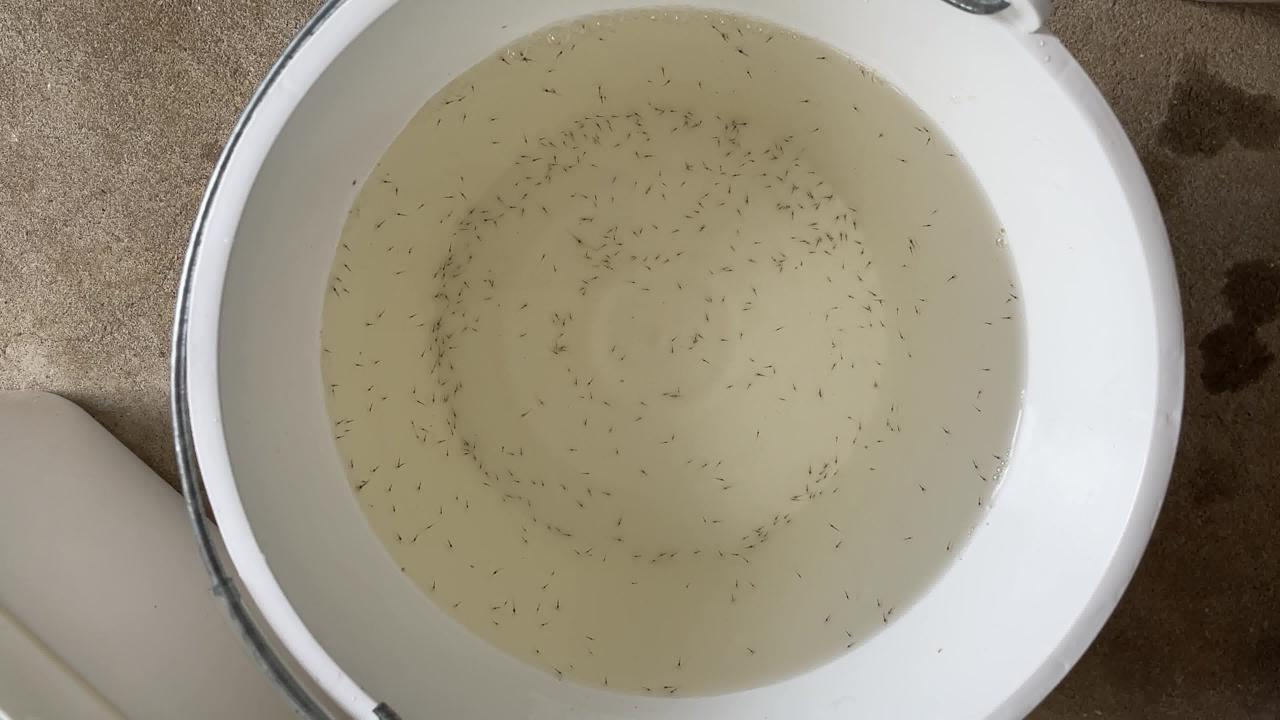shrimp: (592, 84, 604, 92), (540, 87, 552, 95), (551, 85, 563, 93), (535, 131, 547, 139), (533, 141, 545, 149), (516, 132, 528, 140), (544, 139, 556, 147), (558, 141, 570, 149), (556, 129, 568, 137), (563, 129, 575, 137), (578, 134, 590, 142), (584, 134, 596, 142), (588, 136, 600, 144), (590, 121, 602, 129), (574, 126, 586, 134), (568, 118, 580, 126), (579, 114, 591, 122), (590, 111, 602, 119), (599, 119, 611, 127), (602, 122, 614, 130), (604, 112, 616, 120), (619, 112, 631, 120), (631, 109, 643, 117), (630, 116, 642, 124), (624, 127, 636, 135), (611, 139, 623, 147), (629, 146, 641, 154), (641, 151, 653, 159), (641, 136, 653, 144), (635, 129, 647, 137), (642, 98, 654, 106), (651, 103, 663, 111), (653, 110, 665, 118), (662, 105, 674, 113), (666, 122, 678, 130), (680, 119, 692, 127), (679, 114, 691, 122), (680, 108, 692, 116), (689, 120, 701, 128), (710, 112, 722, 120), (707, 132, 719, 140), (712, 137, 724, 145), (723, 132, 735, 140), (725, 137, 737, 145), (719, 121, 731, 129), (735, 118, 747, 126), (725, 117, 737, 125), (725, 120, 737, 128), (731, 126, 743, 134), (680, 156, 692, 164), (681, 165, 693, 173), (685, 158, 697, 166), (675, 178, 687, 186), (659, 180, 671, 188), (650, 167, 662, 175), (643, 185, 655, 193), (655, 191, 667, 199), (627, 180, 639, 188), (693, 155, 705, 163), (700, 165, 712, 173), (715, 159, 727, 167), (718, 149, 730, 157), (715, 165, 727, 173), (708, 178, 720, 186), (701, 189, 713, 197), (696, 199, 708, 207), (690, 206, 702, 214), (677, 211, 689, 219), (691, 223, 703, 231), (709, 201, 721, 209), (717, 188, 729, 196), (728, 171, 740, 179), (736, 161, 748, 169), (742, 159, 754, 167), (740, 149, 752, 157), (758, 147, 770, 155), (768, 154, 780, 162), (774, 146, 786, 154), (767, 140, 779, 148), (777, 135, 789, 143), (782, 132, 794, 140), (807, 125, 819, 133), (797, 95, 809, 103), (785, 152, 797, 160), (790, 159, 802, 167), (781, 166, 793, 174), (776, 174, 788, 182), (758, 170, 770, 178), (759, 180, 771, 188), (739, 194, 751, 202), (735, 206, 747, 214), (640, 79, 652, 87), (657, 81, 669, 89), (661, 67, 673, 75), (692, 81, 704, 89), (807, 165, 819, 173), (788, 181, 800, 189), (793, 184, 805, 192), (814, 177, 826, 185), (800, 187, 812, 195), (806, 189, 818, 197), (817, 190, 829, 198), (825, 190, 837, 198), (808, 197, 820, 205), (810, 202, 822, 210), (794, 200, 806, 208), (786, 210, 798, 218), (770, 195, 782, 203), (770, 201, 782, 209), (779, 202, 791, 210), (830, 212, 842, 220), (842, 212, 854, 220), (847, 206, 859, 214), (849, 218, 861, 226), (806, 218, 818, 226), (807, 225, 819, 233), (783, 235, 795, 243), (794, 235, 806, 243), (798, 238, 810, 246), (804, 247, 816, 255), (810, 238, 822, 246), (819, 249, 831, 257), (826, 241, 838, 249), (823, 233, 835, 241), (831, 231, 843, 239), (836, 232, 848, 240), (848, 236, 860, 244), (853, 245, 865, 253), (860, 258, 872, 266), (841, 261, 853, 269), (824, 273, 836, 281), (852, 270, 864, 278), (748, 238, 760, 246), (725, 244, 737, 252), (742, 258, 754, 266), (764, 255, 776, 263), (772, 266, 784, 274), (772, 260, 784, 268), (775, 246, 787, 254), (790, 263, 802, 271), (796, 259, 808, 267), (674, 246, 686, 254), (665, 227, 677, 235), (650, 222, 662, 230), (606, 177, 618, 185), (606, 193, 618, 201), (591, 190, 603, 198), (586, 201, 598, 209), (577, 191, 589, 199), (566, 191, 578, 199), (584, 161, 596, 169), (578, 147, 590, 155), (566, 144, 578, 152), (571, 152, 583, 160), (564, 164, 576, 172), (559, 167, 571, 175), (548, 150, 560, 158), (547, 158, 559, 166), (543, 163, 555, 171), (535, 172, 547, 180), (541, 176, 553, 184), (529, 153, 541, 161), (520, 151, 532, 159), (513, 157, 525, 165), (525, 174, 537, 182), (510, 180, 522, 188), (519, 191, 531, 199), (515, 208, 527, 216), (535, 205, 547, 213), (493, 196, 505, 204), (504, 200, 516, 208), (495, 209, 507, 217), (491, 219, 503, 227), (483, 214, 495, 222), (478, 206, 490, 214), (456, 176, 468, 184), (456, 192, 468, 200), (447, 193, 459, 201), (482, 142, 494, 150), (482, 114, 494, 122), (466, 208, 478, 216), (455, 214, 467, 222), (459, 219, 471, 227), (457, 225, 469, 233), (446, 230, 458, 238), (432, 217, 444, 225), (440, 210, 452, 218), (469, 221, 481, 229), (472, 234, 484, 242), (441, 244, 453, 252), (580, 214, 592, 222), (572, 232, 584, 240), (539, 253, 551, 261), (546, 264, 558, 272), (577, 252, 589, 260), (594, 241, 606, 249), (594, 233, 606, 241), (601, 227, 613, 235), (611, 221, 623, 229), (607, 229, 619, 237), (612, 238, 624, 246), (625, 228, 637, 236), (635, 226, 647, 234), (650, 247, 662, 255), (663, 256, 675, 264), (640, 254, 652, 262), (641, 261, 653, 269), (626, 253, 638, 261), (612, 247, 624, 255), (602, 248, 614, 256), (599, 254, 611, 262), (599, 261, 611, 269), (590, 272, 602, 280), (575, 276, 587, 284), (572, 280, 584, 288), (578, 289, 590, 297), (515, 304, 527, 312), (517, 330, 529, 338), (548, 311, 560, 319), (548, 315, 560, 323), (558, 319, 570, 327), (561, 312, 573, 320), (553, 329, 565, 337), (550, 337, 562, 345), (549, 345, 561, 353), (554, 339, 566, 347), (558, 346, 570, 354), (624, 277, 636, 285), (639, 286, 651, 294), (669, 282, 681, 290), (701, 268, 713, 276), (715, 261, 727, 269), (718, 268, 730, 276), (703, 289, 715, 297), (698, 295, 710, 303), (700, 315, 712, 323), (714, 294, 726, 302), (739, 295, 751, 303), (739, 302, 751, 310), (749, 284, 761, 292), (489, 278, 501, 286), (482, 273, 494, 281), (473, 275, 485, 283), (479, 293, 491, 301), (459, 277, 471, 285), (453, 285, 465, 293), (449, 272, 461, 280), (464, 253, 476, 261), (444, 249, 456, 257), (447, 260, 459, 268), (436, 257, 448, 265), (429, 267, 441, 275), (436, 269, 448, 277), (439, 285, 451, 293), (428, 292, 440, 300), (440, 292, 452, 300), (441, 300, 453, 308), (453, 297, 465, 305), (445, 308, 457, 316), (452, 311, 464, 319), (468, 314, 480, 322), (459, 322, 471, 330), (466, 324, 478, 332), (434, 312, 446, 320), (431, 320, 443, 328), (427, 321, 439, 329), (442, 328, 454, 336), (438, 335, 450, 343), (430, 333, 442, 341), (425, 341, 437, 349), (413, 348, 425, 356), (448, 342, 460, 350), (437, 347, 449, 355), (434, 360, 446, 368), (427, 367, 439, 375), (442, 359, 454, 367), (431, 375, 443, 383), (437, 377, 449, 385), (447, 388, 459, 396), (454, 376, 466, 384), (439, 394, 451, 402), (426, 393, 438, 401), (412, 400, 424, 408), (404, 385, 416, 393), (404, 416, 416, 424), (408, 431, 420, 439), (416, 432, 428, 440), (415, 425, 427, 433), (440, 416, 452, 424), (445, 411, 457, 419), (445, 419, 457, 427), (447, 426, 459, 434), (435, 435, 447, 443), (439, 445, 451, 453), (456, 430, 468, 438), (456, 445, 468, 453), (459, 454, 471, 462), (467, 443, 479, 451), (466, 452, 478, 460), (476, 461, 488, 469), (478, 466, 490, 474), (479, 477, 491, 485), (490, 468, 502, 476), (502, 467, 514, 475), (494, 444, 506, 452), (501, 448, 513, 456), (513, 444, 525, 452), (509, 471, 521, 479), (512, 496, 524, 504), (504, 490, 516, 498), (497, 494, 509, 502), (525, 498, 537, 506), (520, 523, 532, 531), (520, 536, 532, 544), (529, 515, 541, 523), (538, 522, 550, 530), (550, 523, 562, 531), (558, 527, 570, 535), (411, 312, 423, 320), (414, 322, 426, 330), (388, 269, 400, 277), (401, 245, 413, 253), (382, 244, 394, 252), (371, 222, 383, 230), (392, 208, 404, 216), (412, 202, 424, 210), (390, 188, 402, 196), (379, 177, 391, 185), (430, 115, 442, 123), (455, 113, 467, 121), (442, 99, 454, 107), (452, 97, 464, 105), (465, 85, 477, 93), (499, 55, 511, 63), (516, 56, 528, 64), (512, 50, 524, 58), (543, 65, 555, 73), (550, 50, 562, 58), (562, 44, 574, 52), (575, 22, 587, 30), (591, 32, 603, 40), (593, 95, 605, 103), (600, 90, 612, 98), (609, 346, 621, 354), (613, 354, 625, 362), (563, 369, 575, 377), (568, 379, 580, 387), (586, 375, 598, 383), (583, 389, 595, 397), (578, 393, 590, 401), (533, 397, 545, 405), (517, 411, 529, 419), (576, 419, 588, 427), (596, 399, 608, 407), (617, 374, 629, 382), (664, 346, 676, 354), (664, 335, 676, 343), (683, 344, 695, 352), (683, 337, 695, 345), (694, 332, 706, 340), (699, 357, 711, 365), (714, 336, 726, 344), (732, 329, 744, 337), (763, 323, 775, 331), (773, 324, 785, 332), (745, 354, 757, 362), (721, 381, 733, 389), (740, 386, 752, 394), (750, 372, 762, 380), (757, 361, 769, 369), (765, 364, 777, 372), (755, 430, 767, 438), (775, 393, 787, 401), (782, 383, 794, 391), (670, 380, 682, 388), (668, 392, 680, 400), (661, 388, 673, 396), (638, 397, 650, 405), (631, 412, 643, 420), (607, 427, 619, 435), (568, 445, 580, 453), (552, 483, 564, 491), (538, 478, 550, 486), (524, 477, 536, 485), (576, 467, 588, 475), (584, 484, 596, 492), (576, 497, 588, 505), (599, 487, 611, 495), (608, 449, 620, 457), (635, 470, 647, 478), (654, 441, 666, 449), (668, 430, 680, 438), (681, 456, 693, 464), (697, 460, 709, 468), (709, 458, 721, 466), (709, 473, 721, 481), (716, 482, 728, 490), (374, 307, 386, 315), (361, 319, 373, 327), (354, 350, 366, 358), (349, 363, 361, 371), (367, 358, 379, 366), (366, 388, 378, 396), (365, 407, 377, 415), (378, 391, 390, 399), (321, 347, 333, 355), (326, 288, 338, 296), (339, 288, 351, 296), (333, 276, 345, 284), (342, 262, 354, 270), (340, 242, 352, 250), (326, 379, 338, 387), (326, 387, 338, 395), (329, 419, 341, 427), (344, 417, 356, 425), (340, 426, 352, 434), (330, 433, 342, 441), (342, 461, 354, 469), (355, 484, 367, 492), (365, 465, 377, 473), (390, 454, 402, 462), (393, 459, 405, 467), (383, 482, 395, 490), (385, 505, 397, 513), (391, 533, 403, 541), (406, 533, 418, 541), (421, 523, 433, 531), (435, 505, 447, 513), (413, 483, 425, 491), (449, 496, 461, 504), (461, 498, 473, 506), (444, 537, 456, 545), (422, 581, 434, 589), (447, 601, 459, 609), (462, 560, 474, 568), (488, 566, 500, 574), (499, 595, 511, 603), (491, 603, 503, 611), (489, 617, 501, 625), (506, 603, 518, 611), (536, 620, 548, 628), (532, 647, 544, 655), (548, 665, 560, 673), (532, 606, 544, 614), (535, 583, 547, 591), (546, 567, 558, 575), (551, 605, 563, 613), (581, 634, 593, 642), (581, 646, 593, 654), (565, 662, 577, 670), (600, 677, 612, 685), (639, 684, 651, 692), (654, 681, 666, 689), (666, 687, 678, 695), (671, 661, 683, 669), (623, 579, 635, 587), (594, 555, 606, 563), (581, 543, 593, 551), (579, 551, 591, 559), (568, 545, 580, 553), (612, 535, 624, 543), (610, 520, 622, 528), (628, 552, 640, 560), (646, 560, 658, 568), (651, 553, 663, 561), (664, 550, 676, 558), (679, 581, 691, 589), (686, 549, 698, 557), (694, 516, 706, 524), (709, 515, 721, 523), (711, 550, 723, 558), (723, 594, 735, 602), (731, 578, 743, 586), (743, 579, 755, 587), (741, 556, 753, 564), (726, 548, 738, 556), (737, 534, 749, 542), (741, 543, 753, 551), (758, 537, 770, 545), (758, 531, 770, 539), (752, 529, 764, 537), (751, 524, 763, 532), (769, 511, 781, 519), (768, 520, 780, 528), (779, 510, 791, 518), (781, 516, 793, 524), (793, 573, 805, 581), (742, 646, 754, 654), (819, 612, 831, 620), (794, 487, 806, 495), (790, 494, 802, 502), (803, 491, 815, 499), (814, 489, 826, 497), (828, 488, 840, 496), (804, 466, 816, 474), (814, 477, 826, 485), (819, 472, 831, 480), (817, 463, 829, 471), (828, 469, 840, 477), (829, 455, 841, 463), (830, 433, 842, 441), (813, 390, 825, 398), (841, 413, 853, 421), (853, 420, 865, 428), (849, 433, 861, 441), (858, 443, 870, 451), (871, 436, 883, 444), (878, 418, 890, 426), (886, 425, 898, 433), (889, 421, 901, 429), (885, 401, 897, 409), (867, 379, 879, 387), (827, 362, 839, 370), (834, 352, 846, 360), (844, 360, 856, 368), (827, 338, 839, 346), (821, 317, 833, 325), (828, 304, 840, 312), (833, 323, 845, 331), (851, 321, 863, 329), (873, 359, 885, 367), (863, 323, 875, 331), (874, 318, 886, 326), (897, 332, 909, 340), (900, 346, 912, 354), (843, 292, 855, 300), (856, 305, 868, 313), (864, 304, 876, 312), (874, 298, 886, 306), (864, 290, 876, 298), (892, 306, 904, 314), (910, 306, 922, 314), (917, 297, 929, 305), (895, 265, 907, 273), (902, 249, 914, 257), (904, 240, 916, 248), (916, 223, 928, 231), (926, 210, 938, 218), (708, 22, 720, 30), (713, 30, 725, 38), (720, 30, 732, 38), (732, 46, 744, 54), (739, 67, 751, 75), (734, 27, 746, 35), (764, 35, 776, 43), (812, 51, 824, 59), (854, 67, 866, 75), (848, 104, 860, 112), (873, 130, 885, 138), (896, 157, 908, 165), (911, 125, 923, 133), (918, 121, 930, 129), (918, 134, 930, 142), (940, 148, 952, 156), (946, 273, 958, 281), (1006, 293, 1018, 301), (1005, 282, 1017, 290), (1001, 295, 1013, 303), (998, 311, 1010, 319), (982, 321, 994, 329), (977, 367, 989, 375), (972, 388, 984, 396), (968, 400, 980, 408), (941, 426, 953, 434), (967, 460, 979, 468), (978, 471, 990, 479), (987, 456, 999, 464), (974, 497, 986, 505), (915, 485, 927, 493), (867, 466, 879, 474), (828, 522, 840, 530), (829, 539, 841, 547), (900, 534, 912, 542), (945, 540, 957, 548), (841, 592, 853, 600), (839, 628, 851, 636), (842, 640, 854, 648), (869, 599, 881, 607), (886, 604, 898, 612), (878, 615, 890, 623), (658, 298, 670, 306), (623, 312, 635, 320), (491, 300, 503, 308), (731, 227, 743, 235), (343, 206, 355, 214), (370, 160, 382, 168), (363, 501, 375, 509), (394, 565, 406, 573), (995, 225, 1007, 233), (709, 88, 721, 96)
